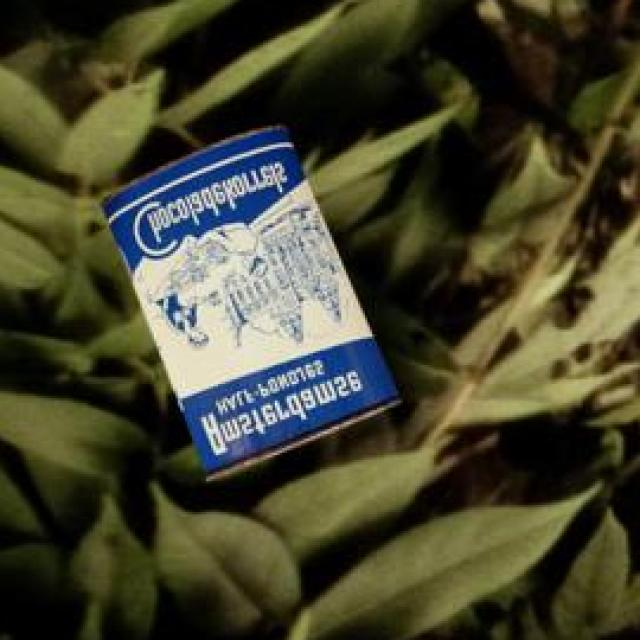logam: (98, 129, 397, 485)
